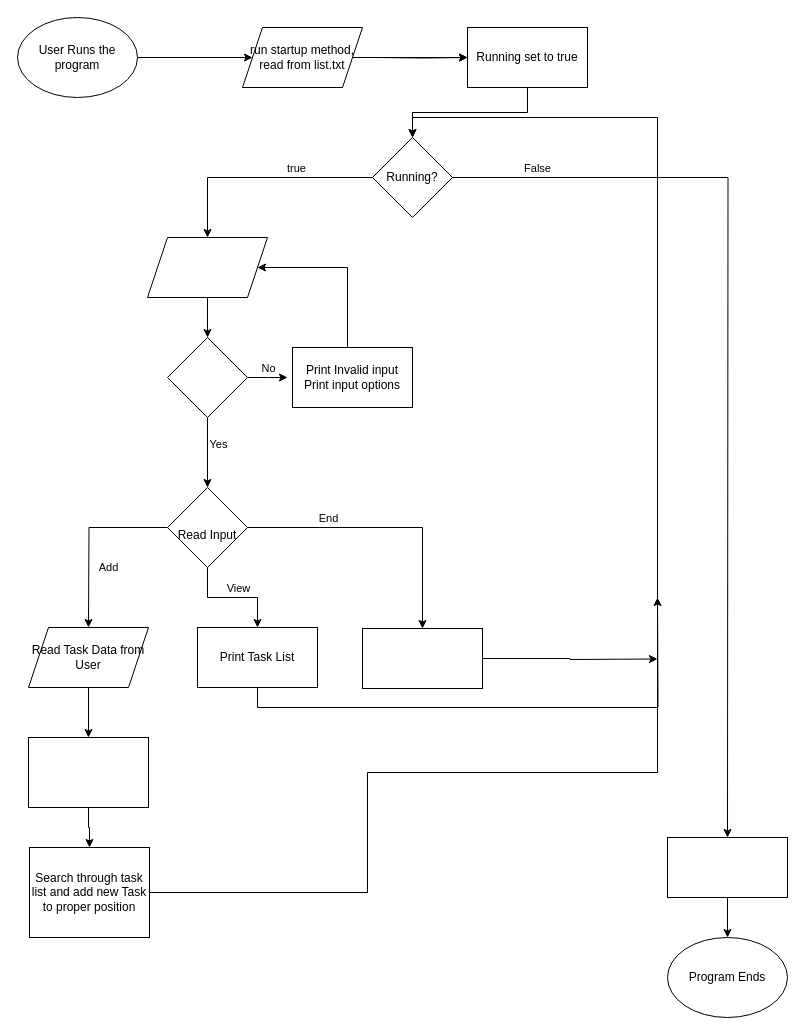
The diagram is 805 pixels wide and 1035 high, and some of its shapes have lost their labels. Each missing label, with the centre of its shape:
Input Valid: [207,377]
Read User Input: [207,267]
Run shutdown, write task data to list.txt: [727,867]
Set running to false: [422,658]
Turn user input in new Task Object: [88,772]
